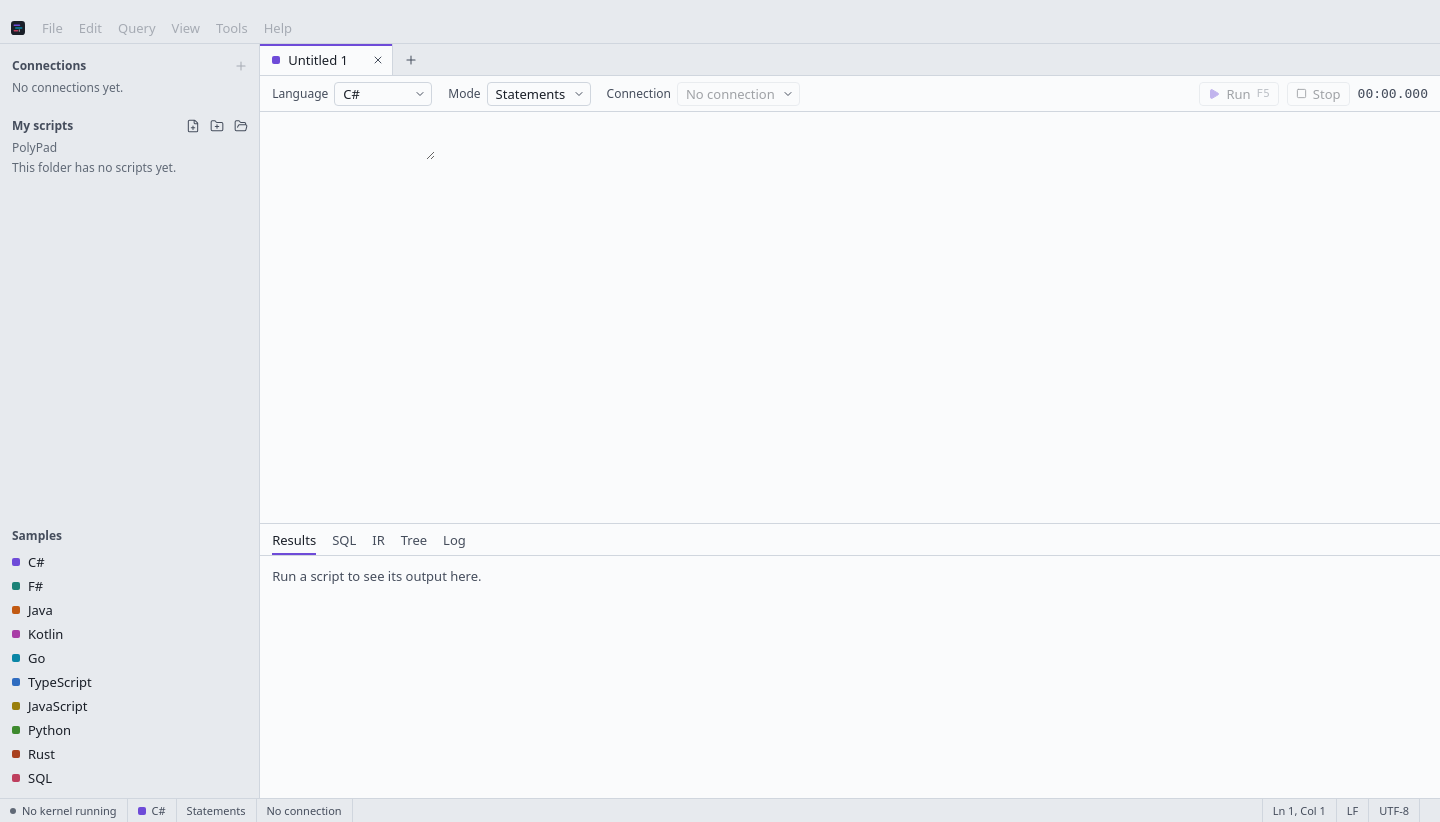
Scenario: editing › re-tints the window and resets the mode when the language changes
Clear the text box named "Editor text" at (348, 140), box [260,120,435,160]
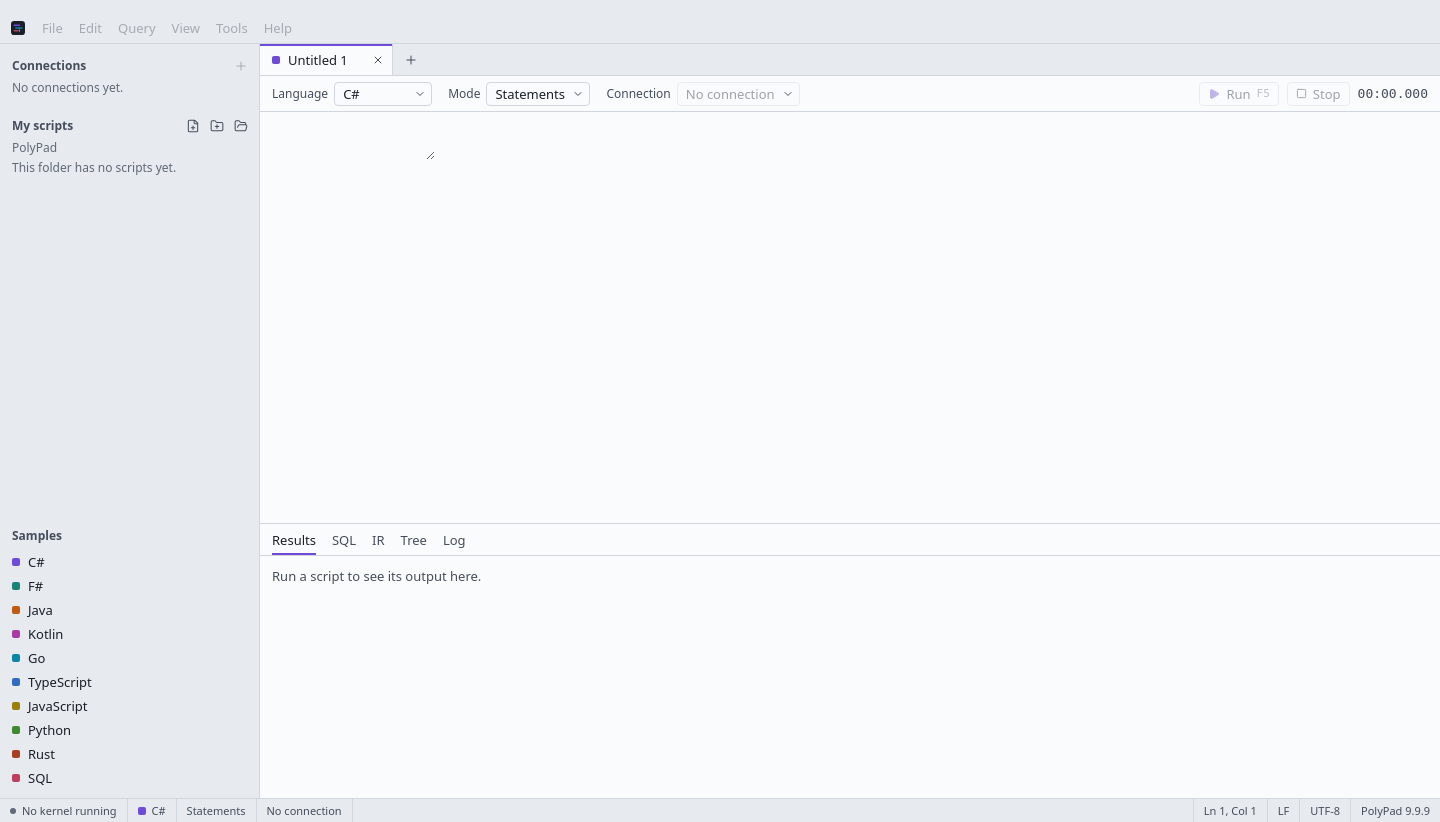
Expected: the element named "Open scripts" is shown, [260,44,393,75]
Select "Python" in the dropdown labelled "Language" at (383, 94), box [334,82,432,106]
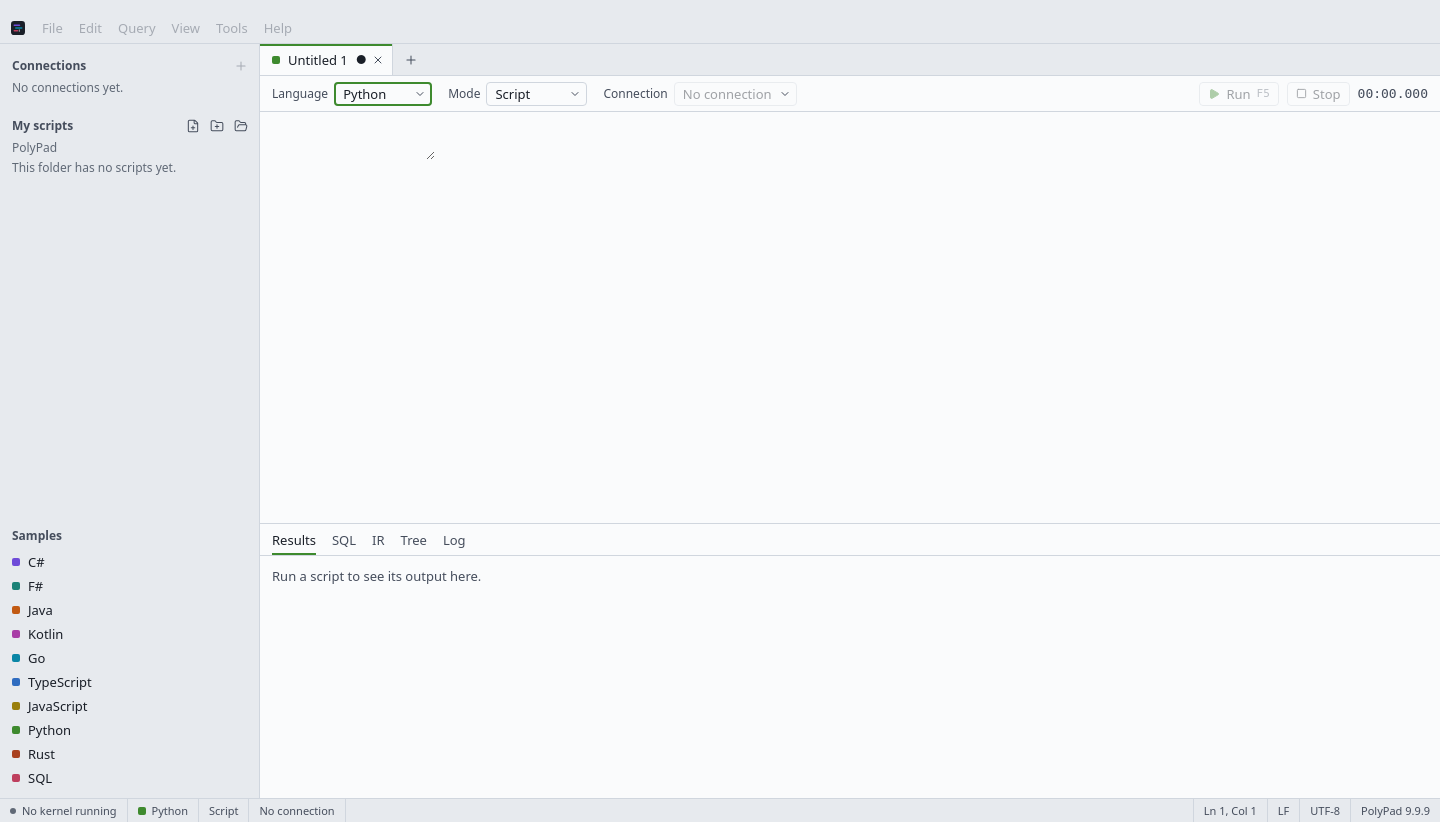
Result: the dropdown labelled "Mode" shows "Script" at [486,82,587,106]
Result: the text "Python" is shown at [128,799,199,821]
Result: the text "Script" is shown at [199,799,249,821]
